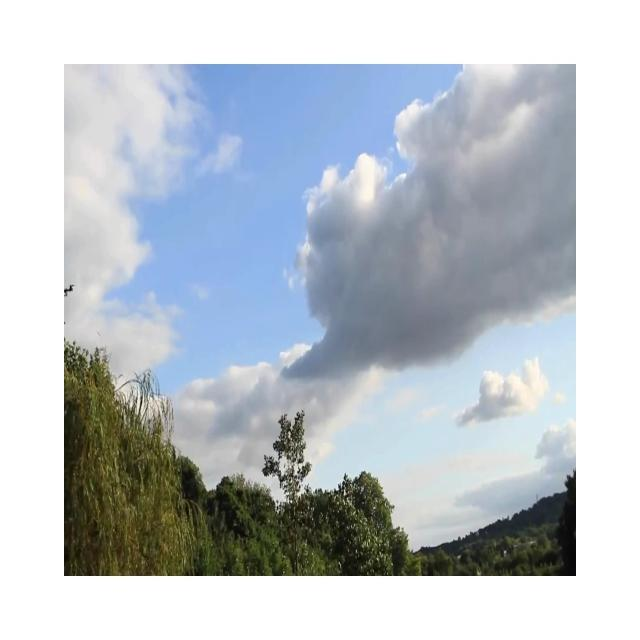drone: (64, 283, 74, 297)
